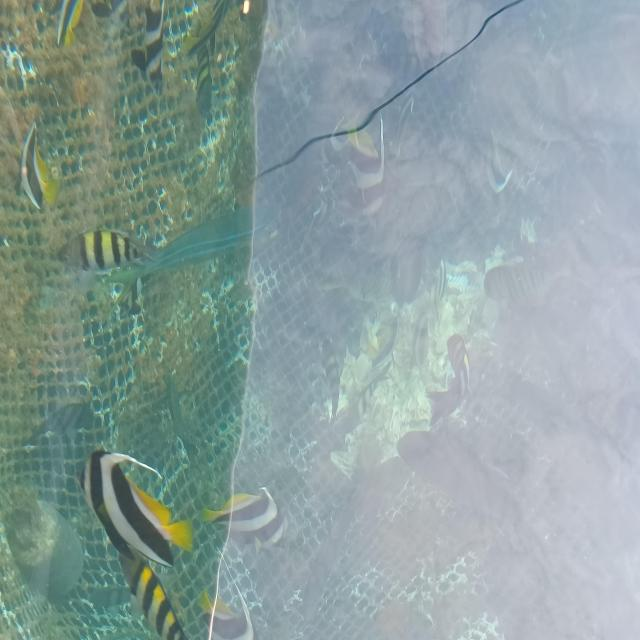ikan: (76, 433, 202, 559), (49, 213, 178, 306), (205, 462, 302, 557)
